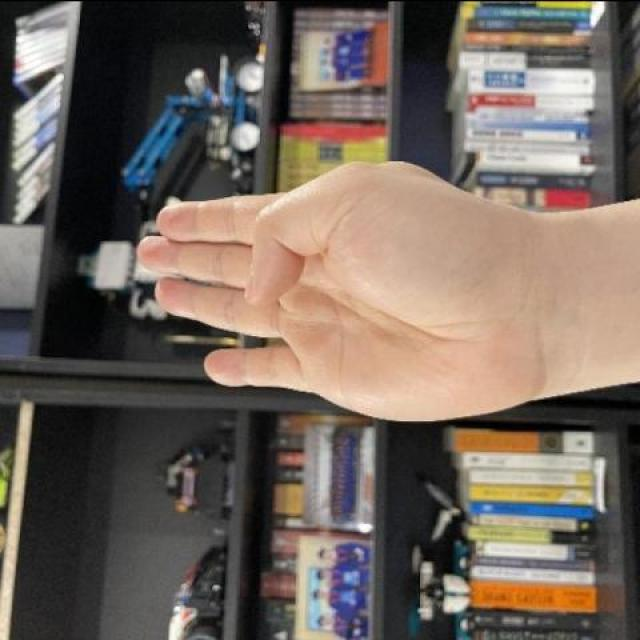Open Hand: (100, 148, 563, 425)
